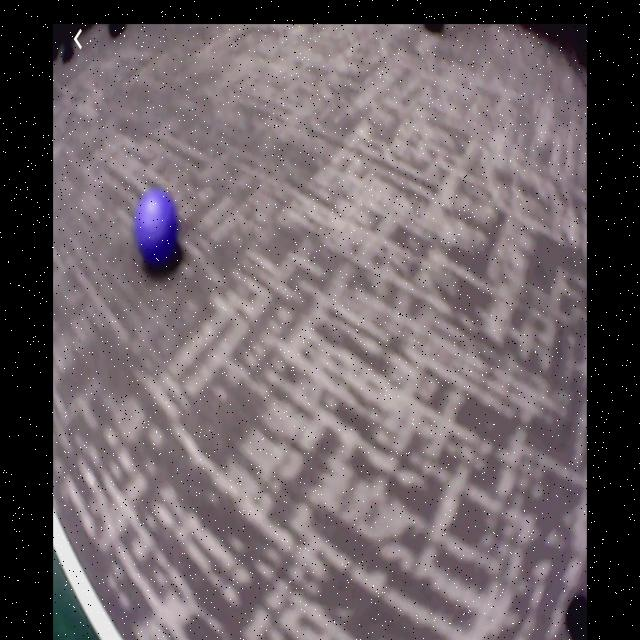ball: (134, 191, 179, 267)
